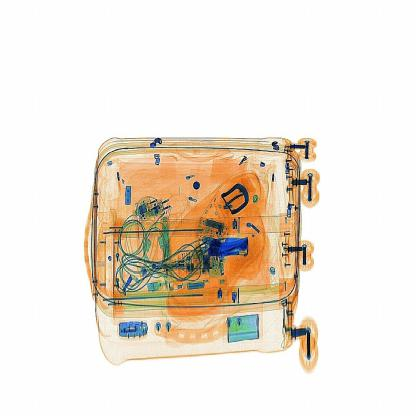knife: (206, 232, 254, 263)
